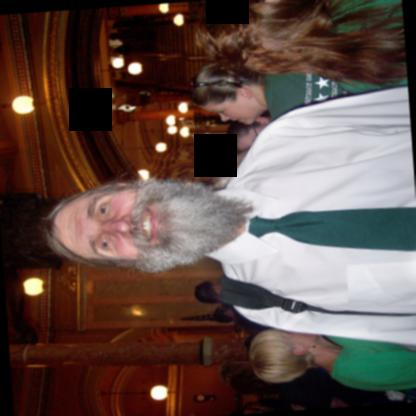backpack: (219, 273, 416, 315)
